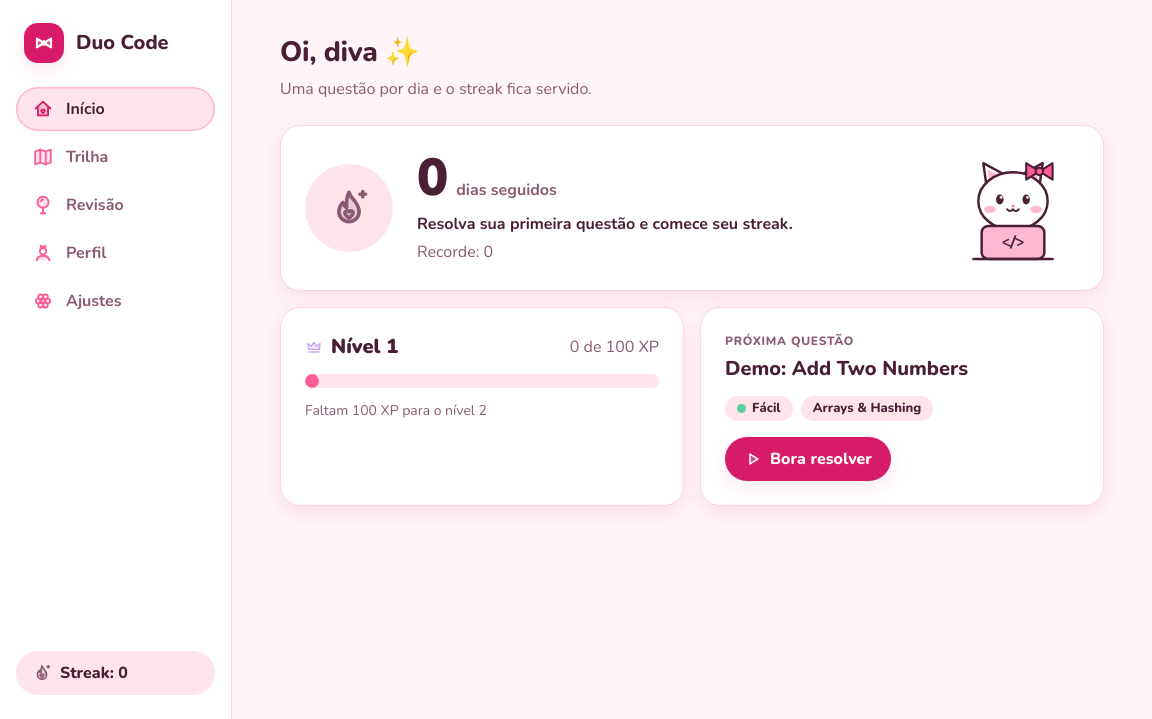
Ajustes do lembrete (005 RF-6) › iniciar com o sistema e testar notificação
Click the link "Ajustes" at (77, 301), box [32,290,122,312]
(page scrolled)
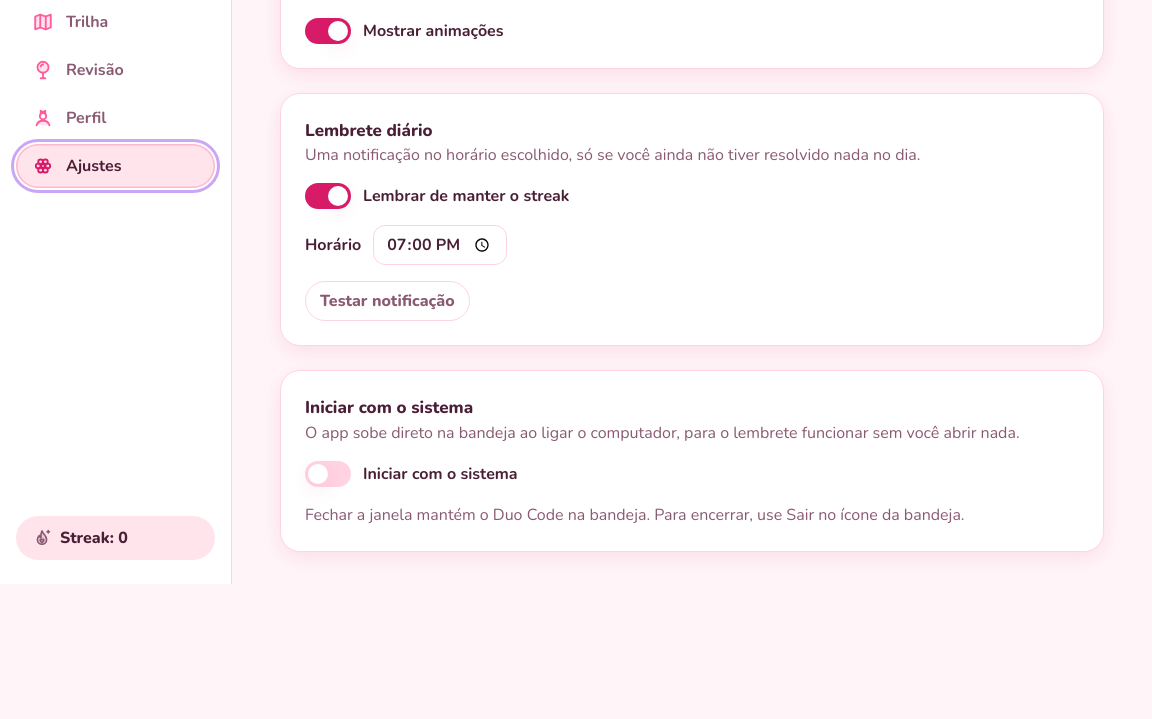
Click the switch labelled "Iniciar com o sistema" at (411, 474), box [305,460,518,486]
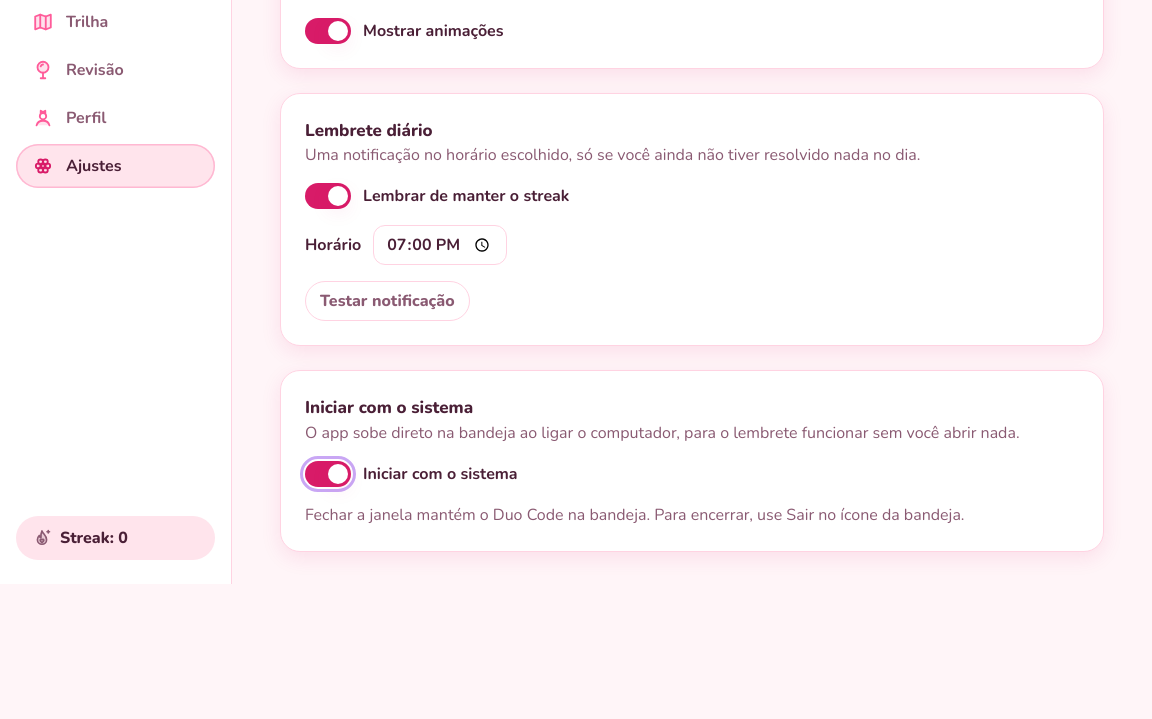
Click the button "Testar notificação" at (387, 301), box [305,281,470,321]
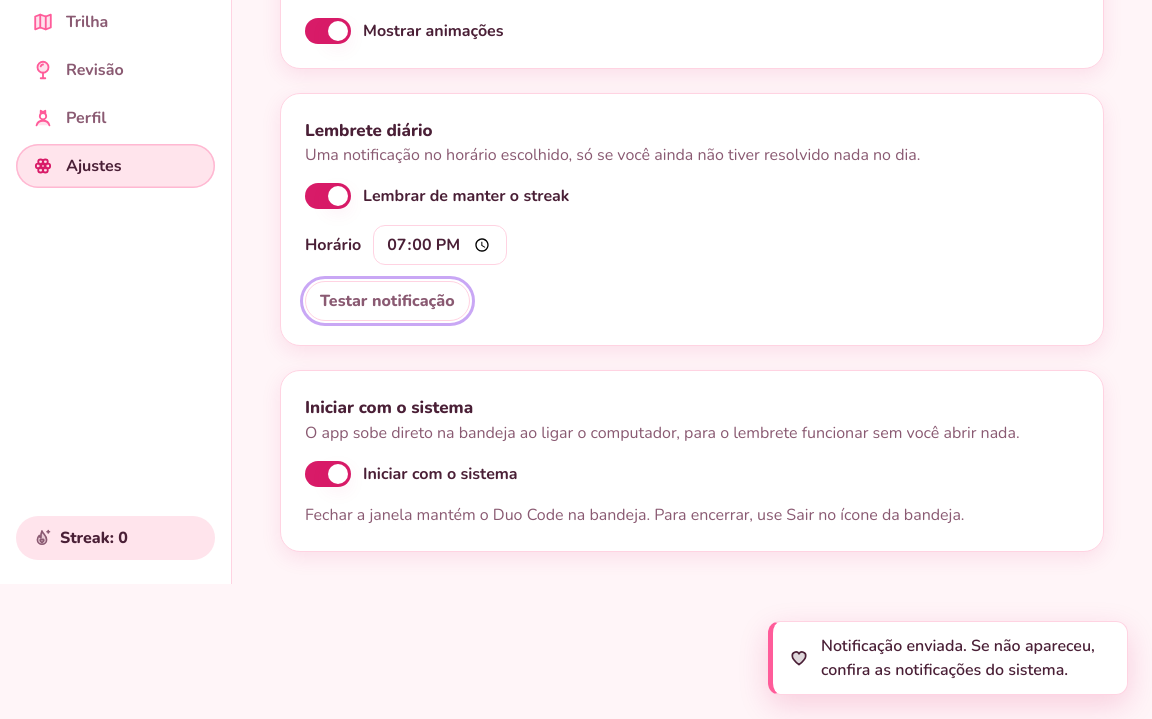
Result: the text "Notificação enviada. Se não apareceu, confira as notificações do sistema." is shown at [821,634,1111,682]
